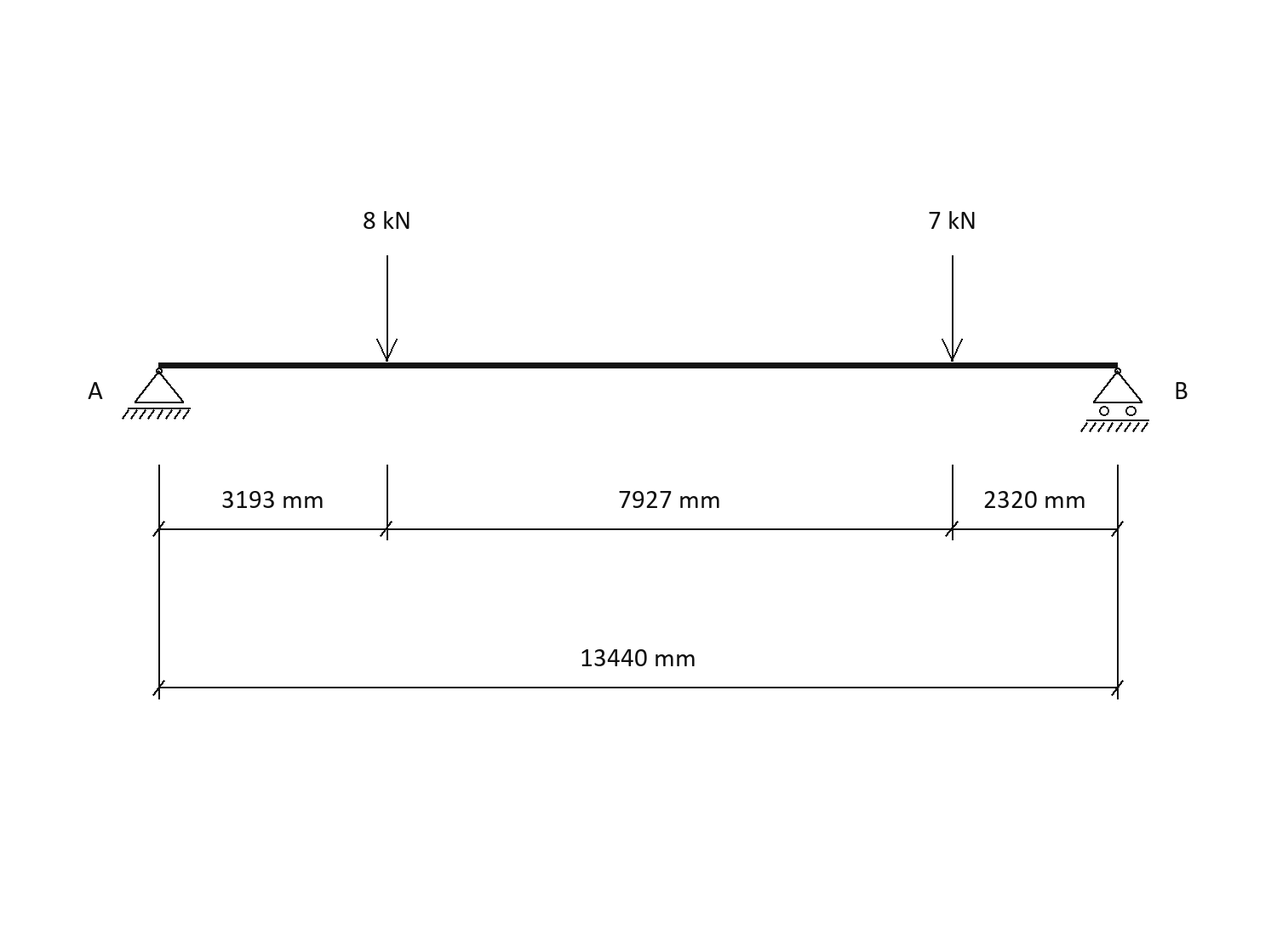pin_support: (122, 368, 191, 419)
point_load: (376, 255, 398, 362), (942, 255, 963, 362)
roller_support: (1080, 368, 1149, 432)
